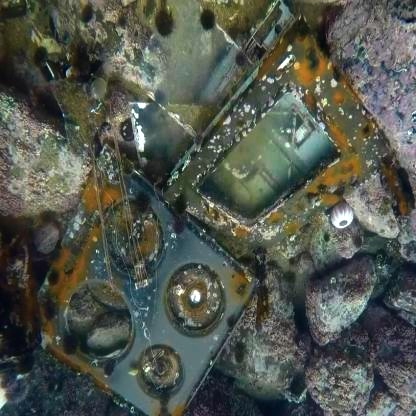electronics: (19, 155, 240, 416), (194, 49, 370, 264)
